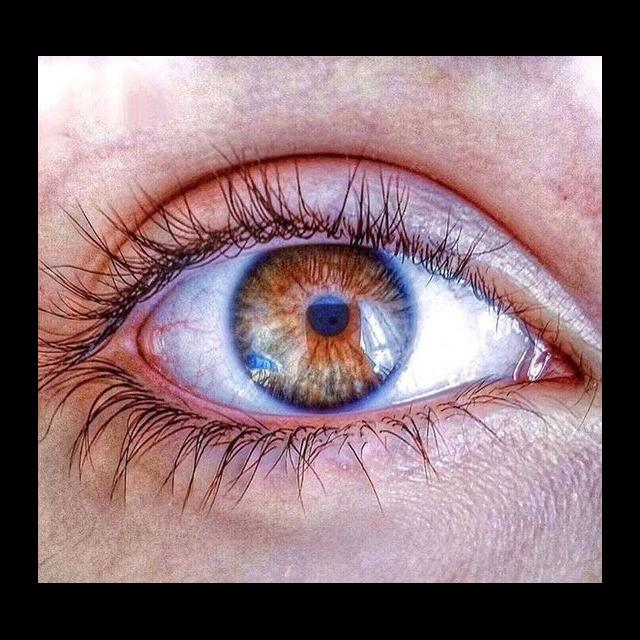eye: (139, 247, 529, 416)
iris: (234, 253, 416, 405)
